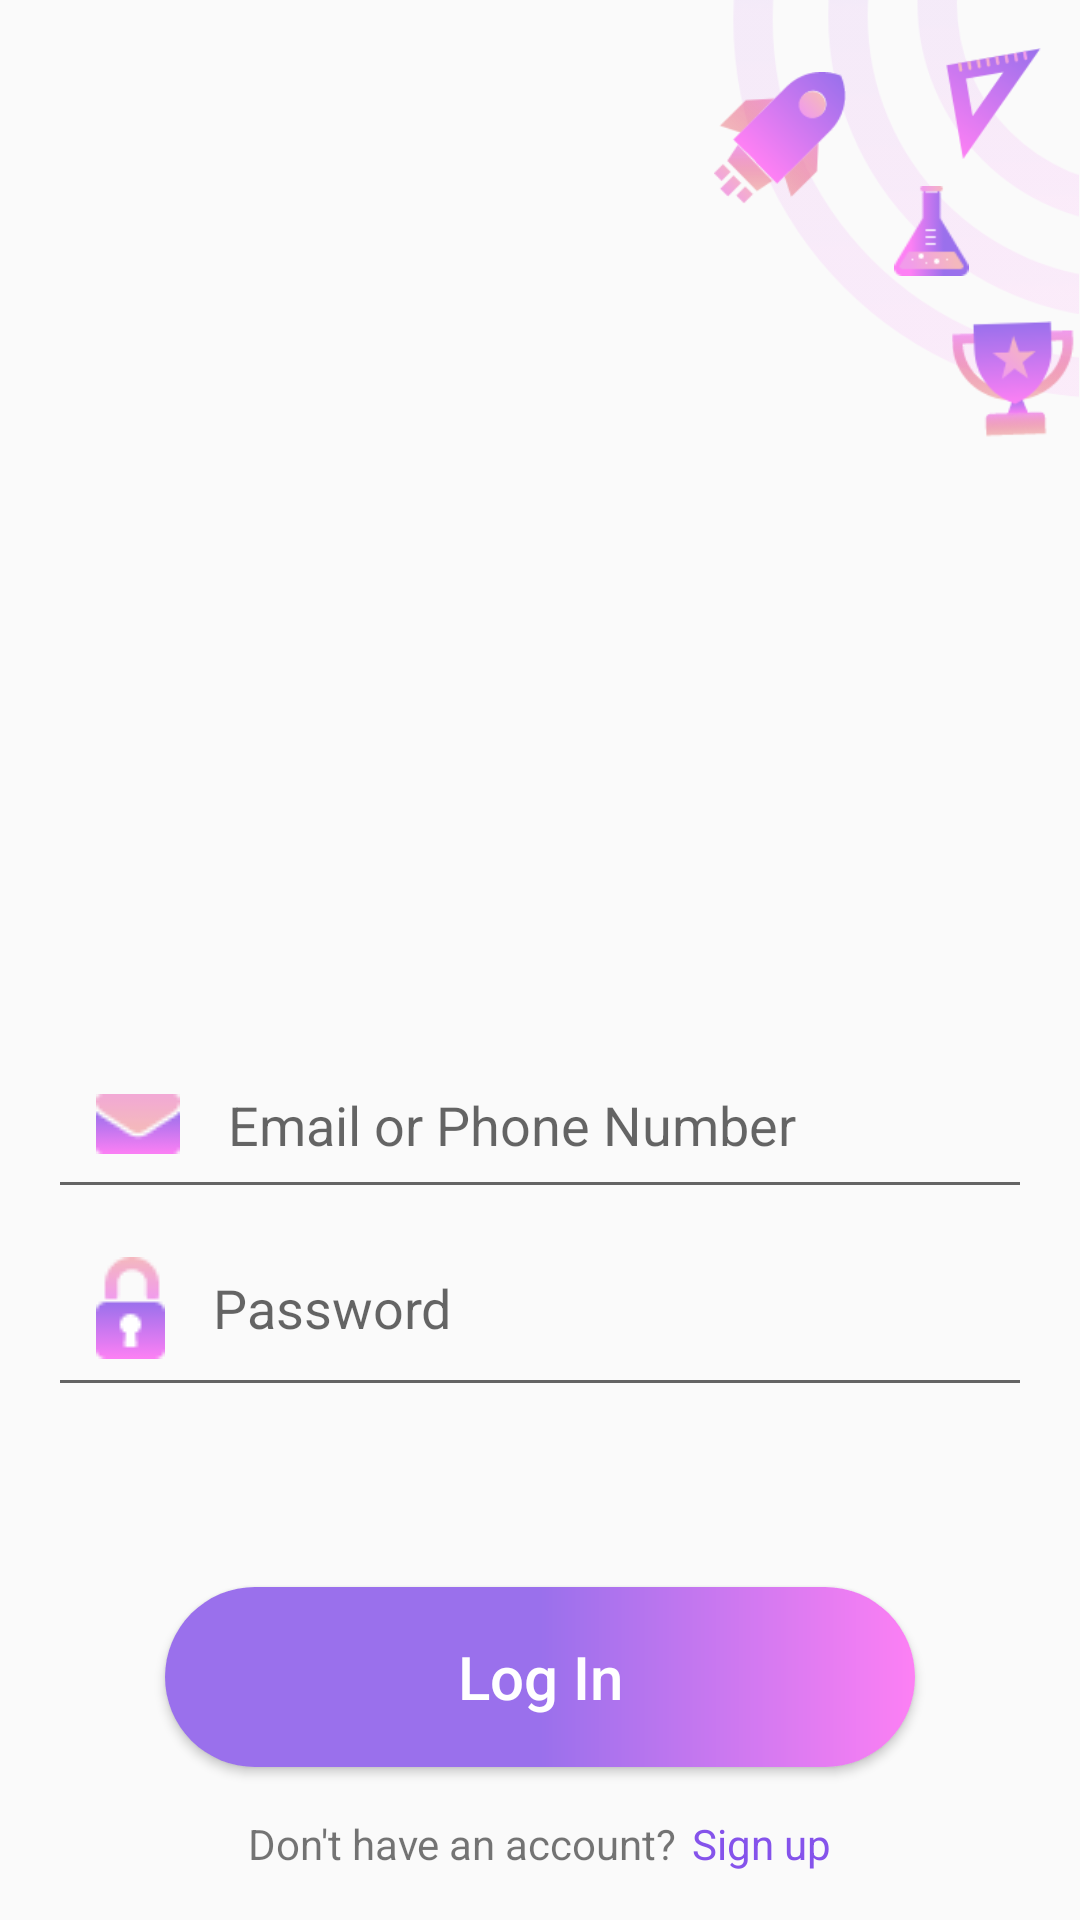

Named icons in this screenshot (1080x1920) and their bounding boxes, [x1,y1,x2,y2]:
flask: [894,186,969,276]
rocket: [714,72,846,203]
triangle: [946,48,1040,159]
trophy: [952,321,1074,436]
